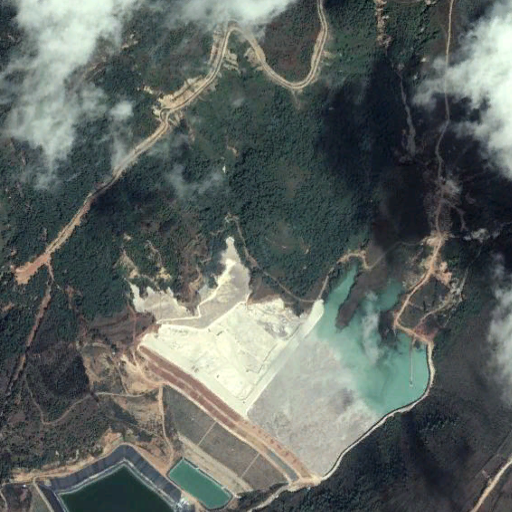tp: (130, 237, 434, 497)
